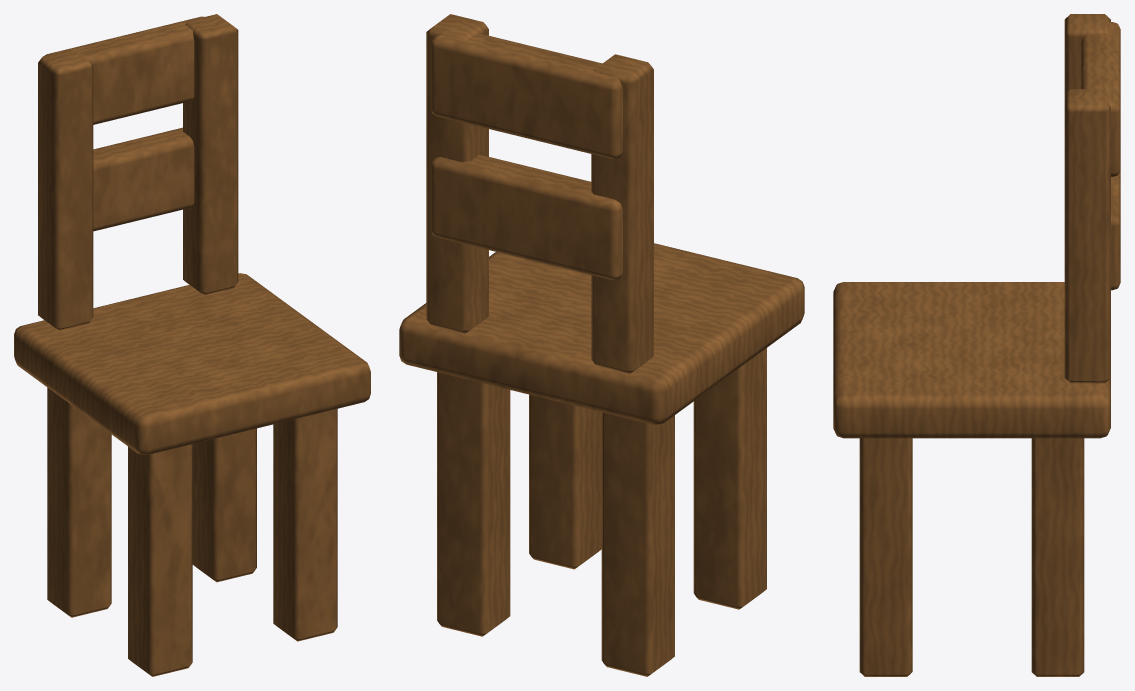
The model's file is Furn_StudentChair.fbx.
3 renders of one model, left to right at view 1: azimuth 30°, elevation 25°; view 2: azimuth 150°, elevation 25°; view 3: azimuth 270°, elevation 25°, orthographic. The views are drawn at different scales.
Visible parts, largest first — view 1: Furn_StudentChair_Mesh; view 2: Furn_StudentChair_Mesh; view 3: Furn_StudentChair_Mesh.
Boxes of the visible parts, bbox=[...] form: Furn_StudentChair_Mesh: bbox=[14, 14, 370, 676]; Furn_StudentChair_Mesh: bbox=[399, 14, 804, 676]; Furn_StudentChair_Mesh: bbox=[833, 14, 1120, 676].
Size of the model in its own units: 0.42 by 0.92 by 0.42.
Materials: 1 (1 with a texture image).
